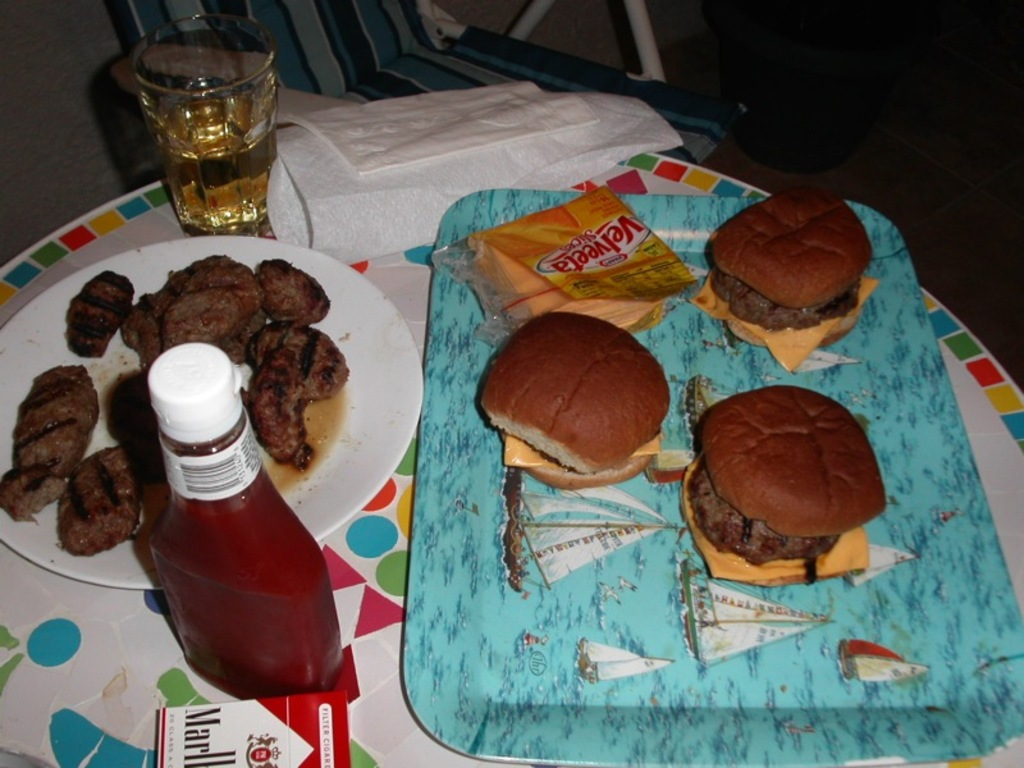Hamburger: (679, 389, 887, 590), (476, 312, 672, 487), (695, 186, 875, 371)
